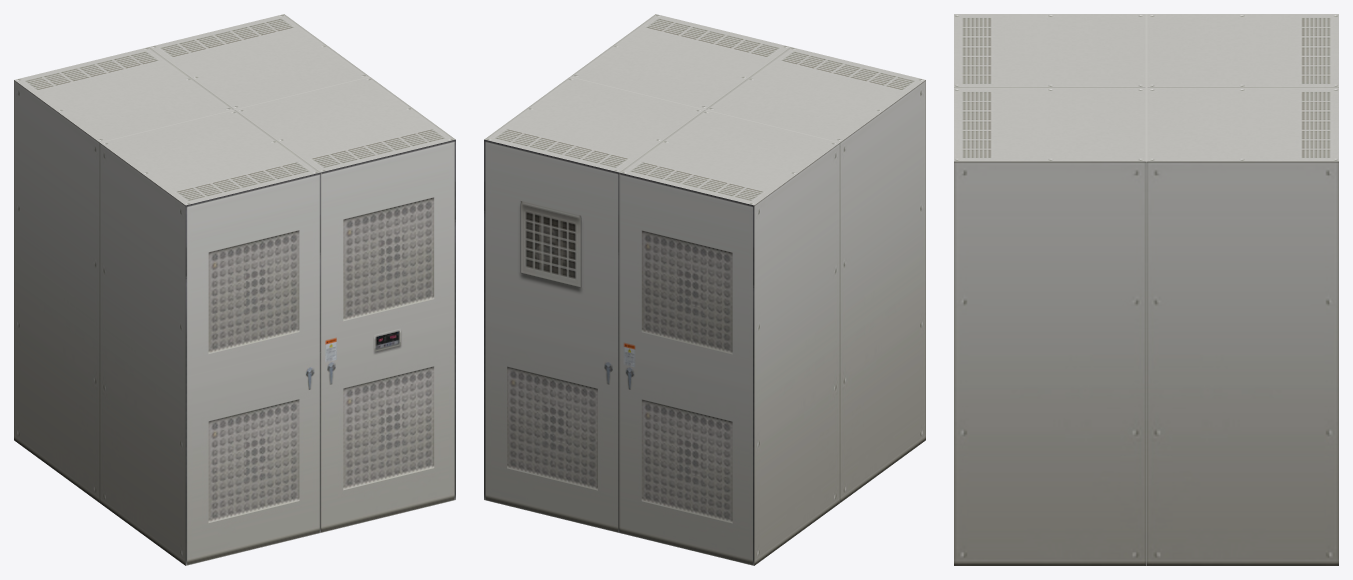
The picture shows the model from 3 angles, left to right: view 1: azimuth 30°, elevation 25°; view 2: azimuth 150°, elevation 25°; view 3: azimuth 270°, elevation 25°; orthographic projection. The views are drawn at different scales.
Visible parts, largest first — view 1: TR-H1; view 2: TR-H1; view 3: TR-H1.
Part boxes in pixels (left/top/right/bottom): TR-H1: left=14, top=14, right=455, bottom=565; TR-H1: left=484, top=14, right=925, bottom=565; TR-H1: left=954, top=14, right=1338, bottom=565.
Size of the model in its own units: 2 by 2.55 by 2.2.
1 material, 1 textured.
